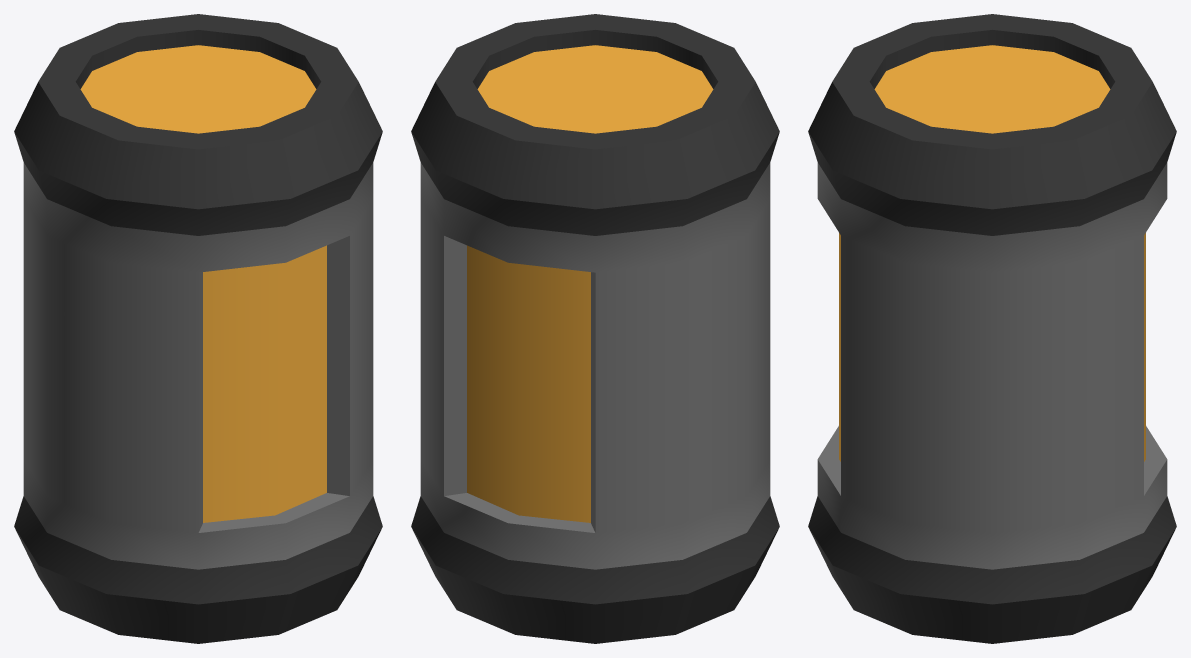
File: pickup_jar.glb
3 views of the same model, side by side, from view 1: azimuth 30°, elevation 25°; view 2: azimuth 150°, elevation 25°; view 3: azimuth 270°, elevation 25° (orthographic).
Parts seen in each view (by area): view 1: Pickup_Jar; view 2: Pickup_Jar; view 3: Pickup_Jar.
Boxes of the visible parts, left/top/right/bottom form: Pickup_Jar: left=14, top=14, right=382, bottom=643; Pickup_Jar: left=411, top=14, right=779, bottom=643; Pickup_Jar: left=808, top=14, right=1176, bottom=643.
Bounding box in the file's own units: 0.6919 × 1.02 × 0.6919.
1 material, 1 textured.
